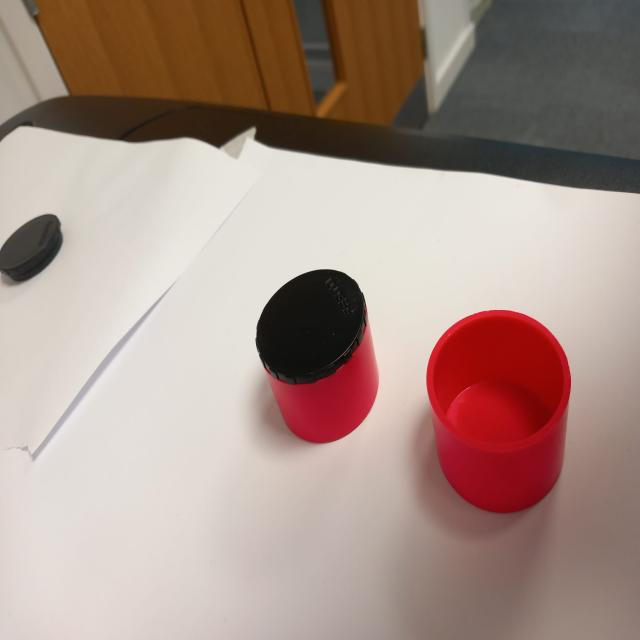NoLid: (420, 286, 584, 524)
Workpiece: (244, 264, 391, 469)
